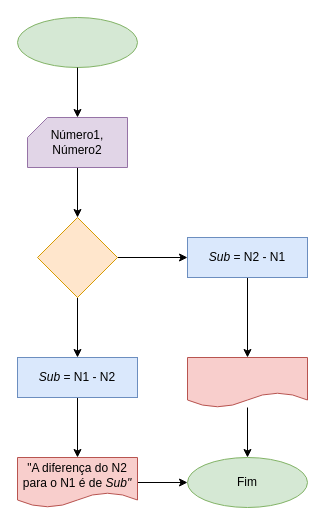
Some shapes in this 325 by 525 pixel diagram are drawn without their labels. The box of each missing label's shape, as (x1, y1, x2, y2) in pixels:
"A diferença do N1 para o N2 é de Sub": (186, 356, 308, 408)
Inicio: (16, 16, 138, 68)
N1 > N2: (36, 216, 118, 298)
